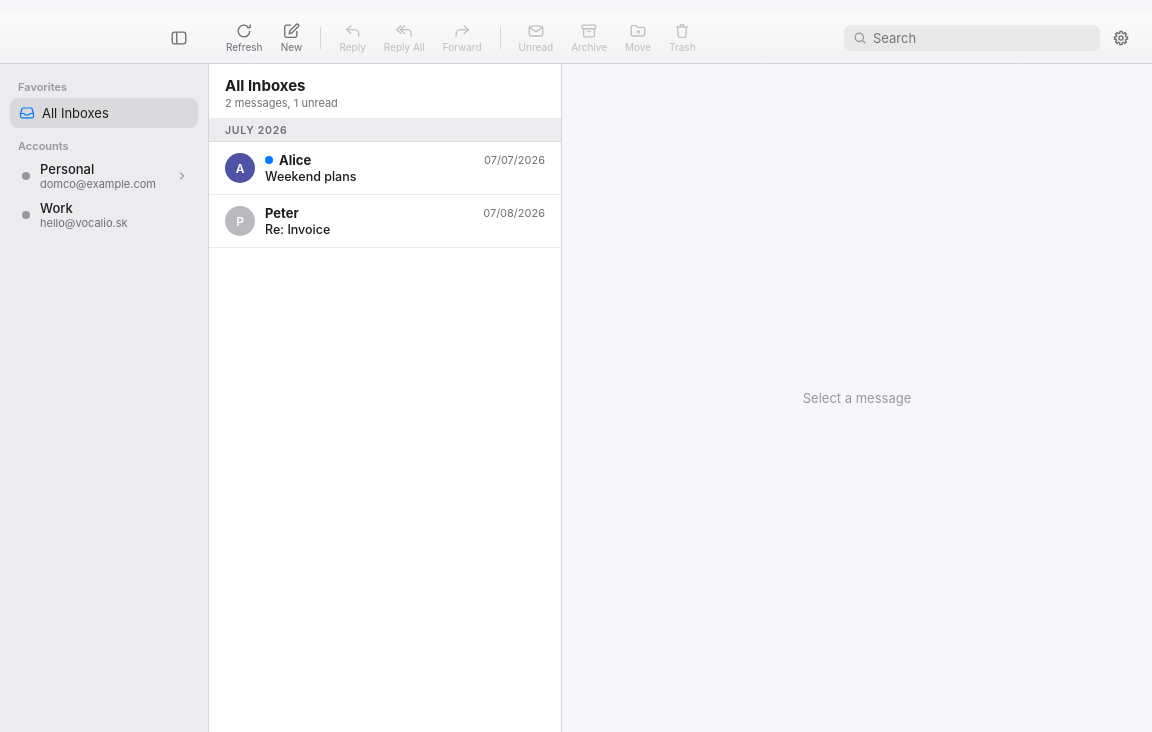
shows decoded folder names but talks to the backend in wire names
The width and height of the screenshot is (1152, 732).
Expected: the text "Weekend plans" is shown, top-left (265, 169), bottom-right (356, 184)
Click the button named "Toggle folders for Personal" at coordinates (182, 176), box top-left (172, 166), bottom-right (192, 186)
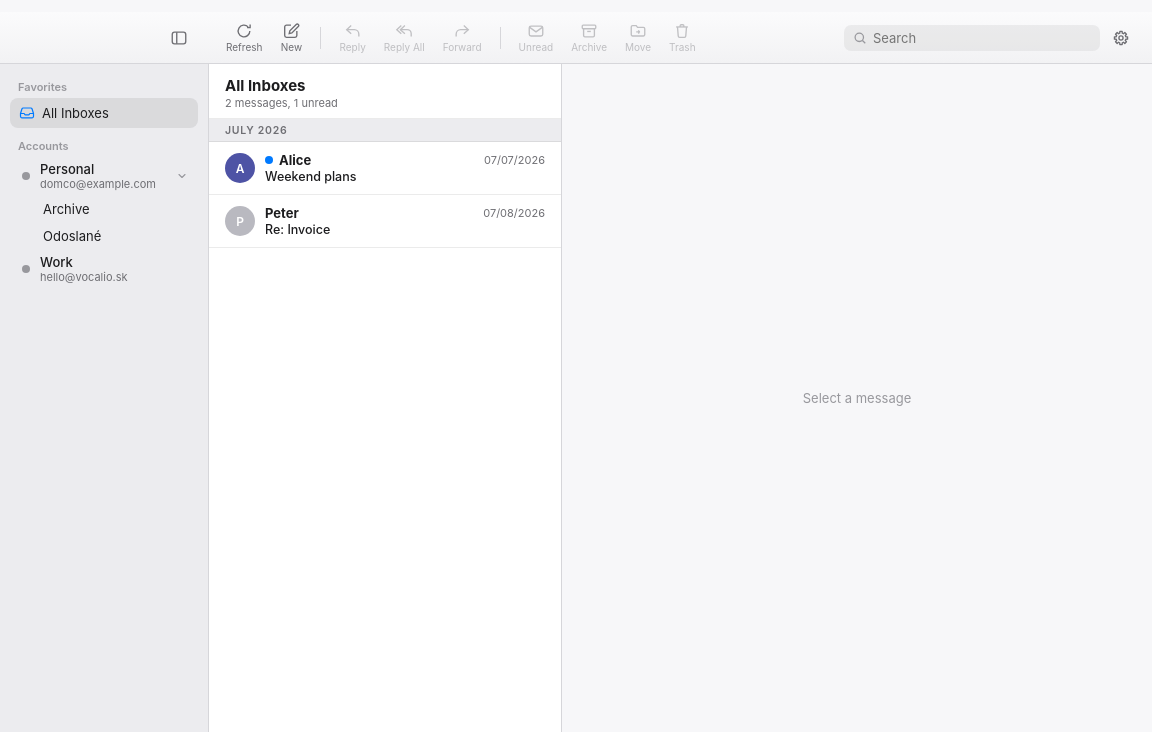
The sidebar and list header show the decoded label…
Click the button "Odoslané" at coordinates (116, 236), box top-left (34, 223), bottom-right (198, 249)
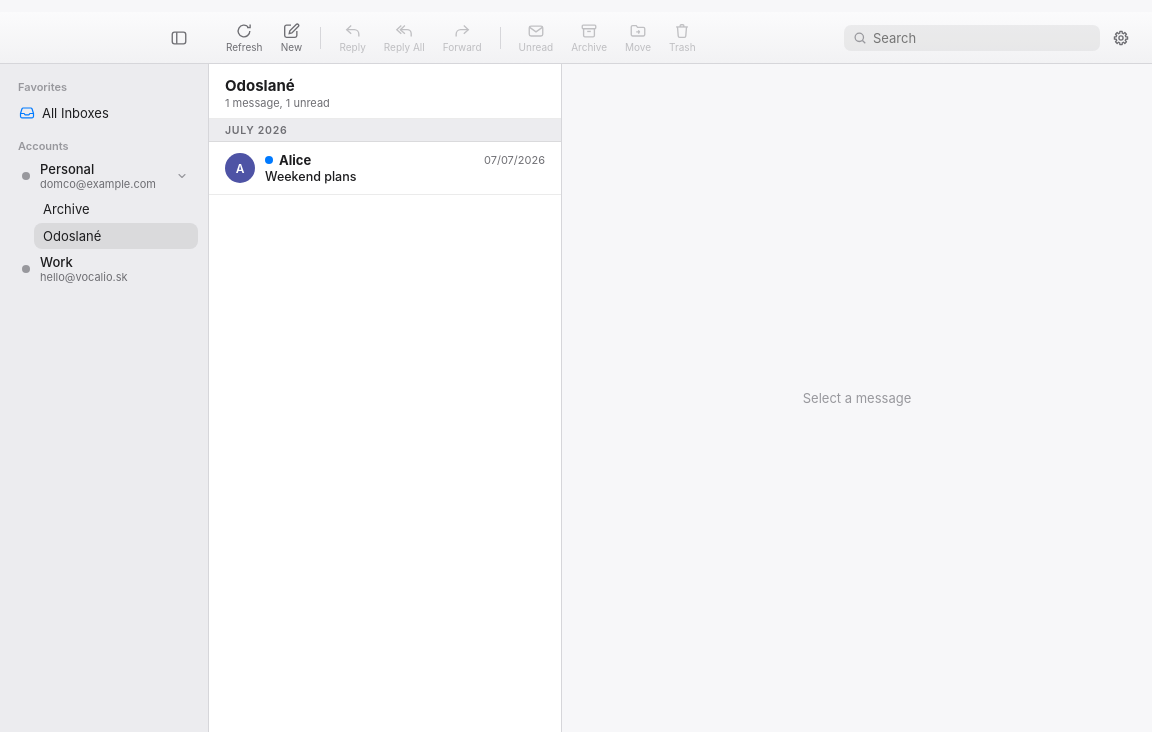
Now the heading "Odoslané" is shown, box top-left (225, 76), bottom-right (295, 95)
